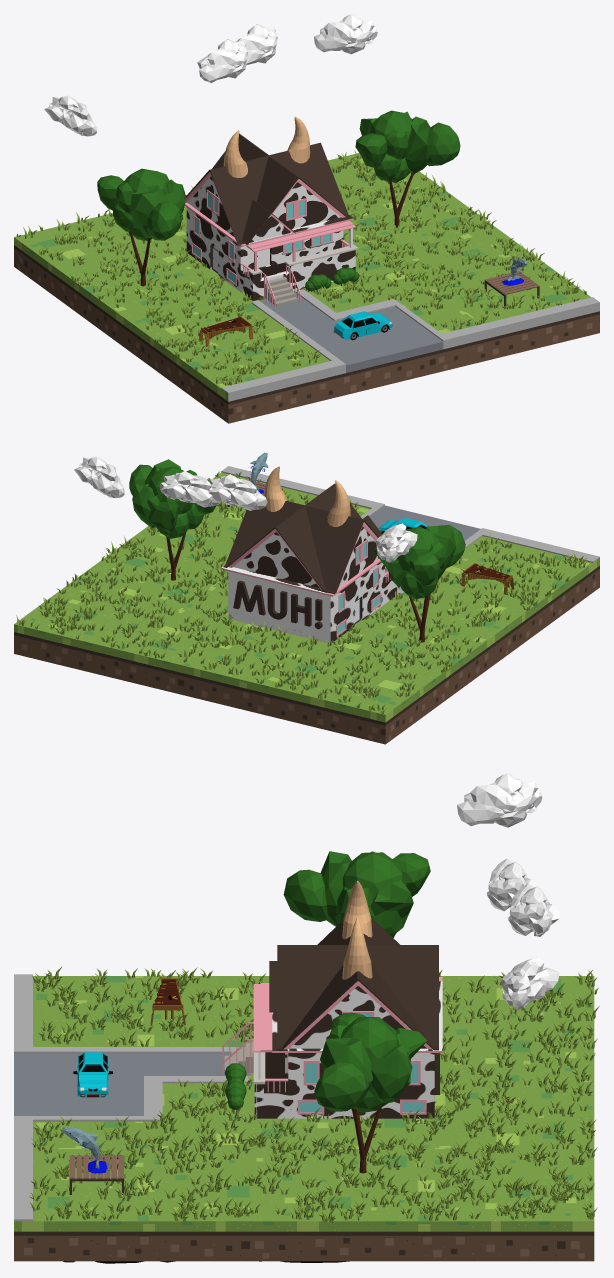
3 renders of one model, top to bottom at view 1: azimuth 30°, elevation 25°; view 2: azimuth 150°, elevation 25°; view 3: azimuth 270°, elevation 25°, orthographic. The views are drawn at different scales.
Parts seen in each view (by area): view 1: Cube.006, Cube.1242, Circle.012_Grass_0.192, Cube.007, tree, tree.001, VEHICLES_CAR, Cube.009, OBJRANDOM_MARIMBA; view 2: Cube.006, Cube.1242, Circle.012_Grass_0.192, Cube.007, tree.001, tree, OBJRANDOM_MARIMBA; view 3: Cube.006, Circle.012_Grass_0.192, Cube.1242, tree, Cube.007, tree.001, VEHICLES_CAR, Cube.009, OBJRANDOM_MARIMBA, ANIMAL_DELFIN.
Part boxes in pixels (x1,y1,x2,y2): Cube.006: [14, 153, 599, 423]; Cube.1242: [184, 116, 358, 307]; Circle.012_Grass_0.192: [16, 150, 586, 385]; Cube.007: [44, 14, 377, 136]; tree: [355, 110, 460, 227]; tree.001: [97, 168, 185, 286]; VEHICLES_CAR: [333, 311, 392, 340]; Cube.009: [484, 271, 539, 306]; OBJRANDOM_MARIMBA: [199, 316, 253, 346]; Cube.006: [14, 466, 599, 744]; Cube.1242: [220, 466, 397, 643]; Circle.012_Grass_0.192: [16, 471, 586, 713]; Cube.007: [74, 456, 417, 562]; tree.001: [373, 524, 465, 642]; tree: [129, 459, 216, 580]; OBJRANDOM_MARIMBA: [461, 563, 514, 594]; Cube.006: [14, 974, 594, 1261]; Circle.012_Grass_0.192: [29, 967, 599, 1222]; Cube.1242: [222, 880, 442, 1118]; tree: [314, 1012, 427, 1173]; Cube.007: [457, 773, 559, 1009]; tree.001: [283, 851, 430, 937]; VEHICLES_CAR: [73, 1052, 112, 1097]; Cube.009: [69, 1154, 123, 1194]; OBJRANDOM_MARIMBA: [150, 978, 185, 1025]; ANIMAL_DELFIN: [60, 1127, 108, 1173].
Size of the model in its own units: 4071 by 2149 by 4040.
40 materials, 3 textured.
